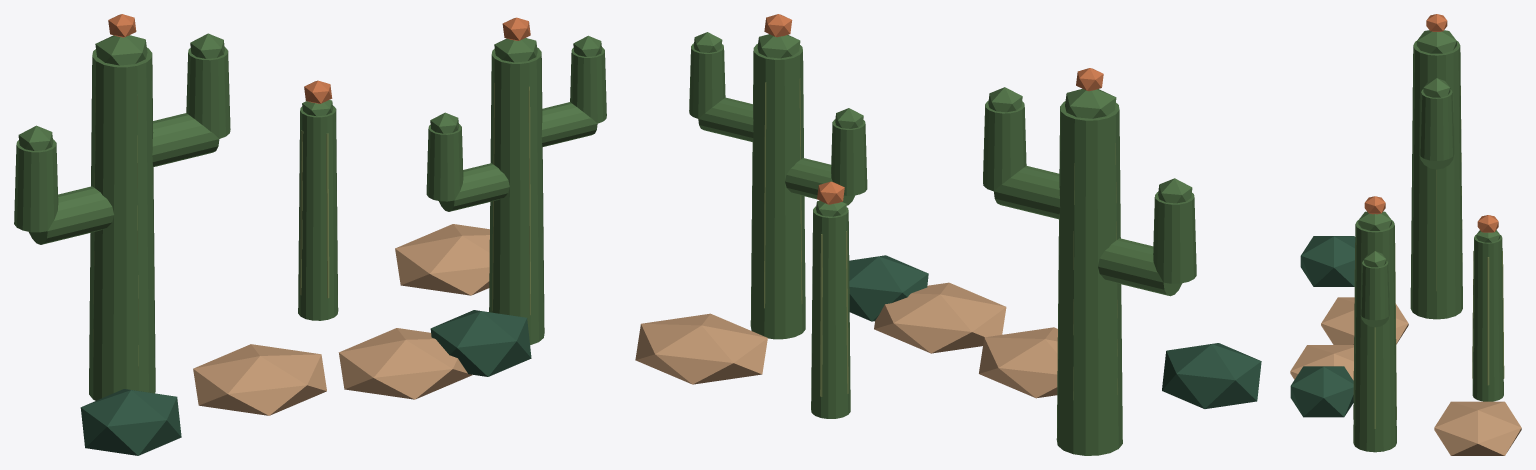
File: Desert_CactusGarden_Showcase.glb
The picture shows the model from 3 angles, left to right: view 1: azimuth 30°, elevation 25°; view 2: azimuth 150°, elevation 25°; view 3: azimuth 270°, elevation 25°; orthographic projection. The views are drawn at different scales.
Visible parts, largest first — view 1: Desert_CactusGarden_Showcase; view 2: Desert_CactusGarden_Showcase; view 3: Desert_CactusGarden_Showcase.
Part boxes in pixels (box(x1,y1,x2,y2)): Desert_CactusGarden_Showcase: box(14, 14, 606, 455); Desert_CactusGarden_Showcase: box(635, 14, 1261, 455); Desert_CactusGarden_Showcase: box(1290, 14, 1521, 455).
Bounding box in the file's own units: 4.79 × 3.16 × 2.25.
